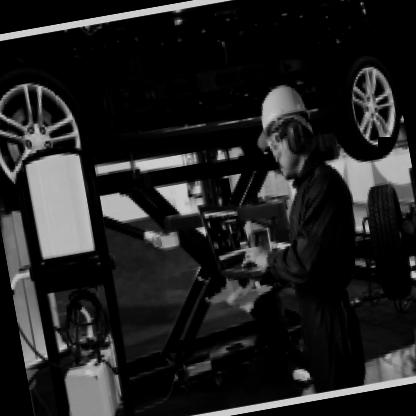helmet: (248, 70, 328, 188)
